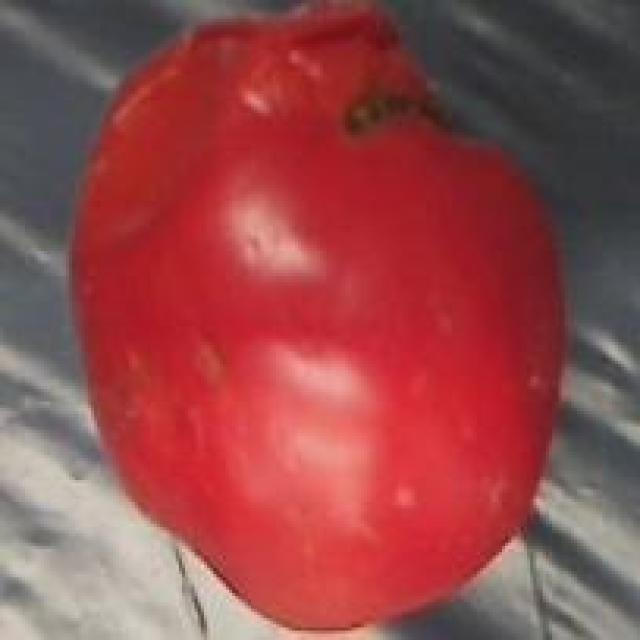overripe tomato: (60, 0, 568, 640)
